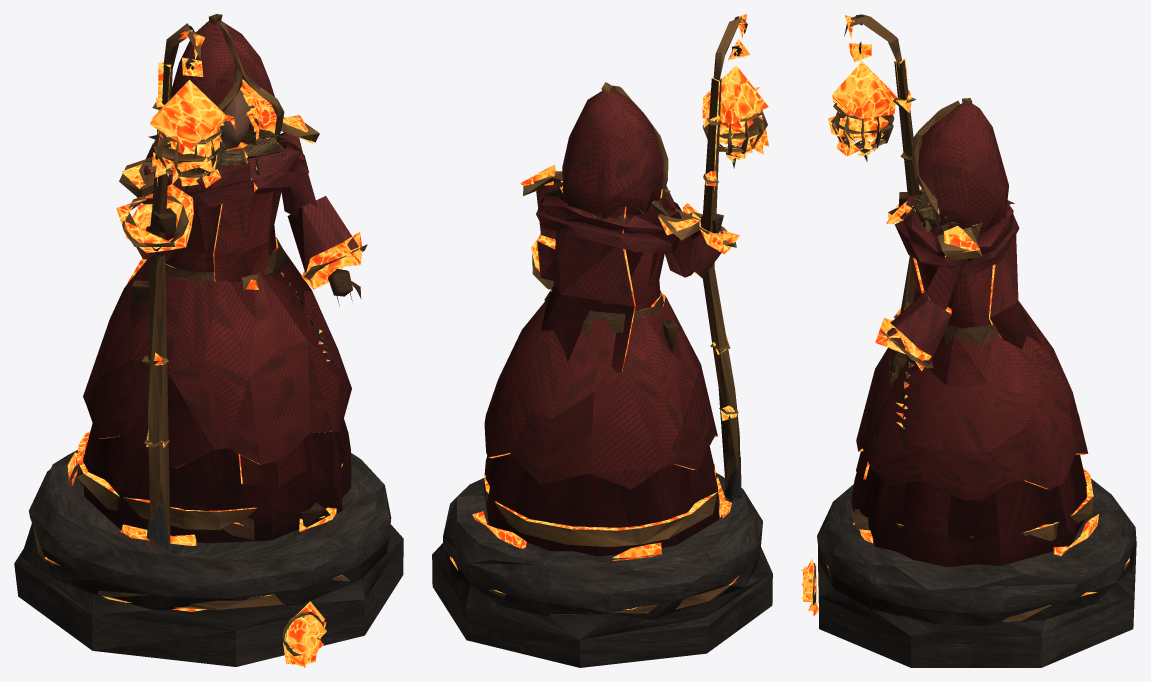
Rendered from emberhold_bishop_fragments.glb.
3 renders of one model, left to right at view 1: azimuth 30°, elevation 25°; view 2: azimuth 150°, elevation 25°; view 3: azimuth 270°, elevation 25°, orthographic. The views are drawn at different scales.
Parts seen in each view (by area): view 1: frag_003, frag_023, frag_009, frag_025, frag_015, frag_013, frag_027, frag_022, frag_029, frag_008, frag_005, frag_001 (+11 smaller); view 2: frag_009, frag_011, frag_003, frag_005, frag_026, frag_024, frag_015, frag_004, frag_027, frag_029, frag_020, frag_001 (+10 smaller); view 3: frag_025, frag_023, frag_006, frag_009, frag_005, frag_010, frag_018, frag_004, frag_026, frag_008, frag_007, frag_001 (+12 smaller).
Boxes of the visible parts, left/top/right/bottom form: frag_003: left=14, top=451, right=235, bottom=666; frag_023: left=33, top=465, right=403, bottom=666; frag_009: left=83, top=259, right=260, bottom=468; frag_025: left=205, top=251, right=351, bottom=464; frag_015: left=83, top=250, right=269, bottom=543; frag_013: left=206, top=432, right=351, bottom=540; frag_027: left=116, top=23, right=308, bottom=261; frag_022: left=131, top=191, right=307, bottom=486; frag_029: left=144, top=62, right=172, bottom=546; frag_008: left=240, top=196, right=367, bottom=336; frag_005: left=171, top=14, right=276, bottom=134; frag_001: left=150, top=23, right=228, bottom=149; frag_009: left=484, top=292, right=717, bottom=489; frag_011: left=531, top=564, right=720, bottom=667; frag_003: left=538, top=489, right=772, bottom=653; frag_005: left=562, top=82, right=663, bottom=218; frag_026: left=541, top=186, right=677, bottom=373; frag_024: left=433, top=542, right=591, bottom=667; frag_015: left=589, top=280, right=718, bottom=556; frag_004: left=483, top=454, right=627, bottom=556; frag_027: left=536, top=86, right=739, bottom=278; frag_029: left=702, top=78, right=741, bottom=498; frag_020: left=484, top=464, right=717, bottom=560; frag_001: left=702, top=14, right=768, bottom=123; frag_025: left=856, top=334, right=1040, bottom=500; frag_023: left=817, top=484, right=1022, bottom=667; frag_006: left=895, top=566, right=1066, bottom=667; frag_009: left=876, top=300, right=1088, bottom=489; frag_005: left=918, top=98, right=1008, bottom=232; frag_010: left=976, top=541, right=1133, bottom=667; frag_018: left=873, top=422, right=999, bottom=567; frag_004: left=995, top=454, right=1086, bottom=565; frag_026: left=903, top=194, right=1042, bottom=349; frag_008: left=875, top=291, right=951, bottom=398; frag_007: left=900, top=101, right=982, bottom=309; frag_001: left=832, top=14, right=901, bottom=118.
Size of the model in its own units: 0.7345 by 1.43 by 0.7728.
10 materials, 10 textured.
